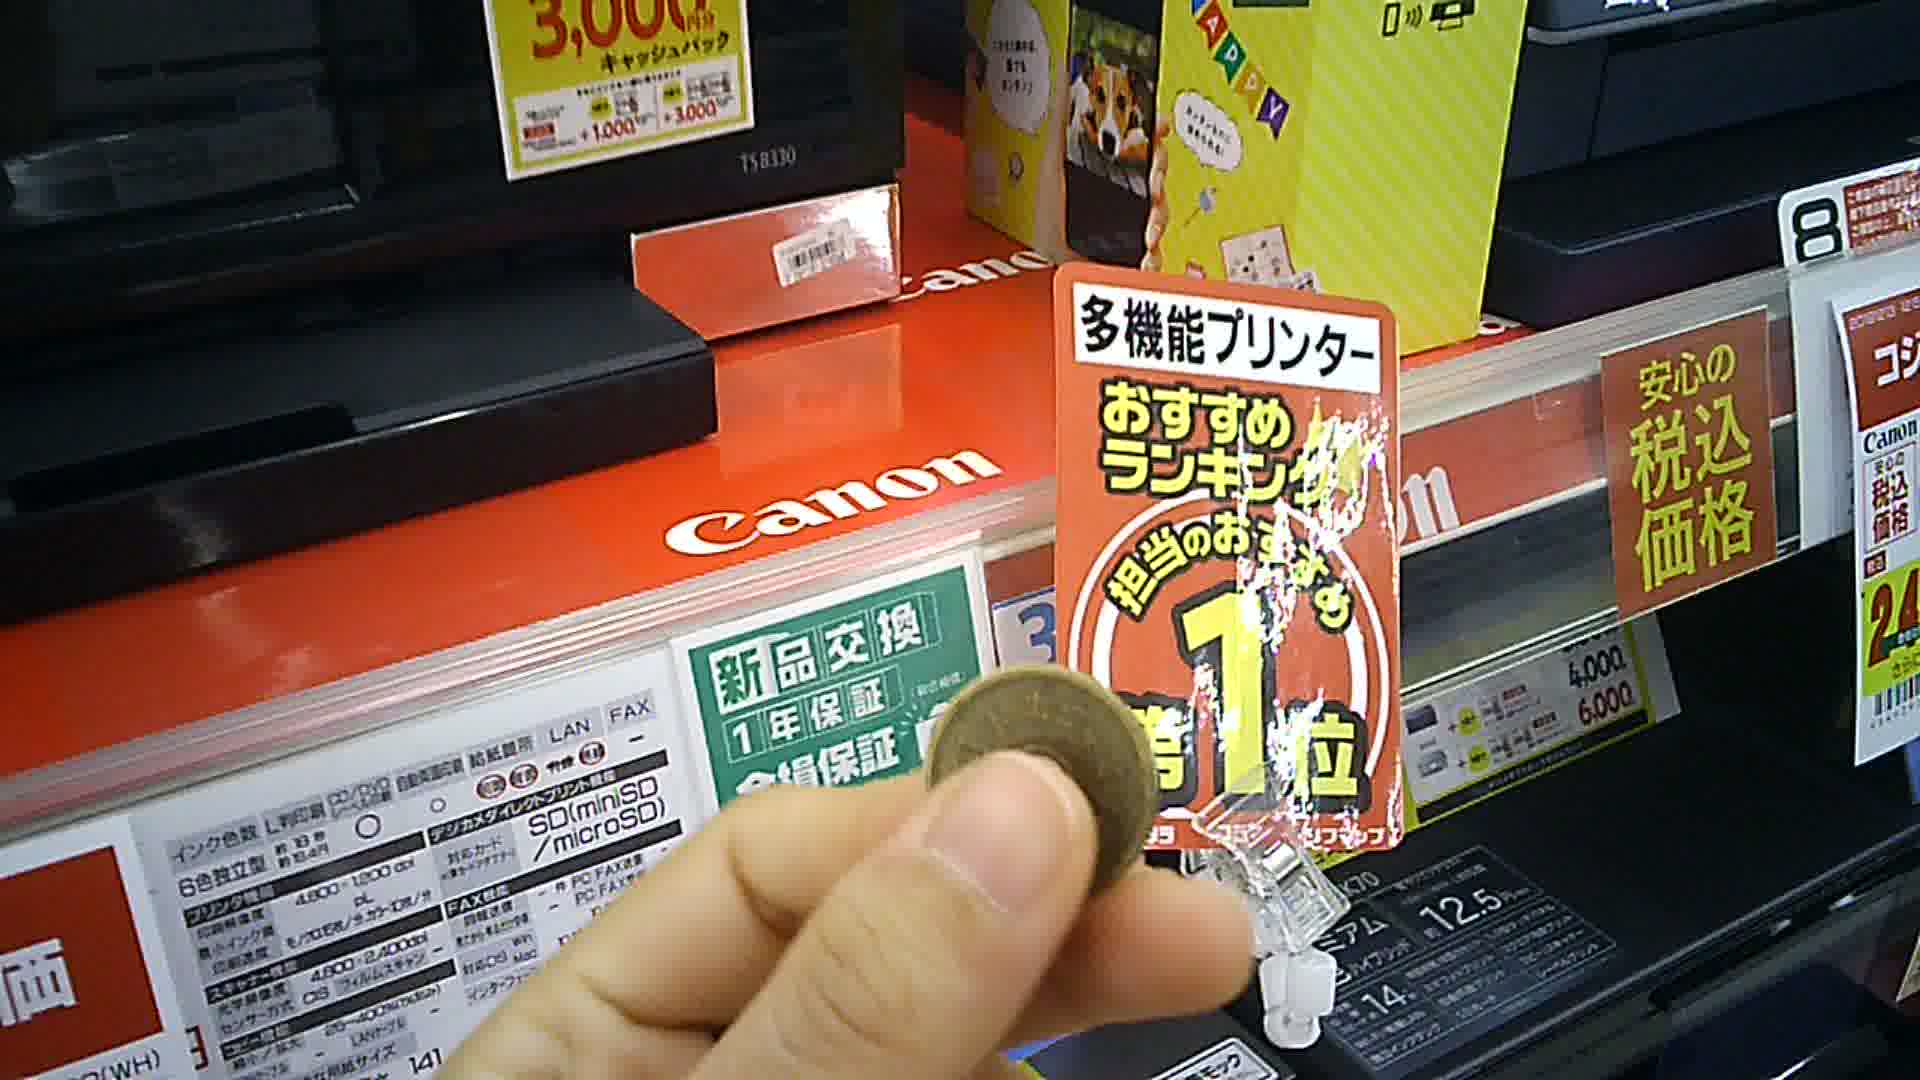5 Yen: (923, 659, 1155, 898)
